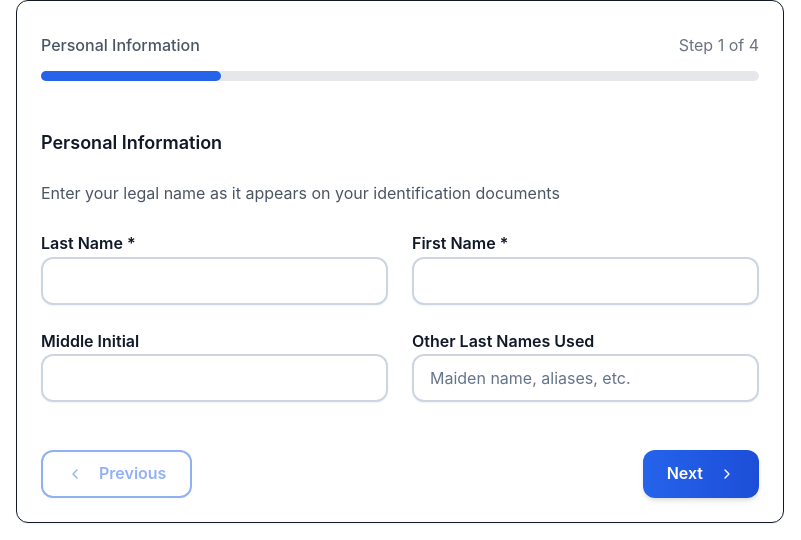
Test: I9Section1FormClean › Step 1: Personal Information › should limit middle initial to 1 character
Type "ABC" into the field labelled "Middle Initial".
click(214, 378); type("ABC")  # box [41,354,388,402]
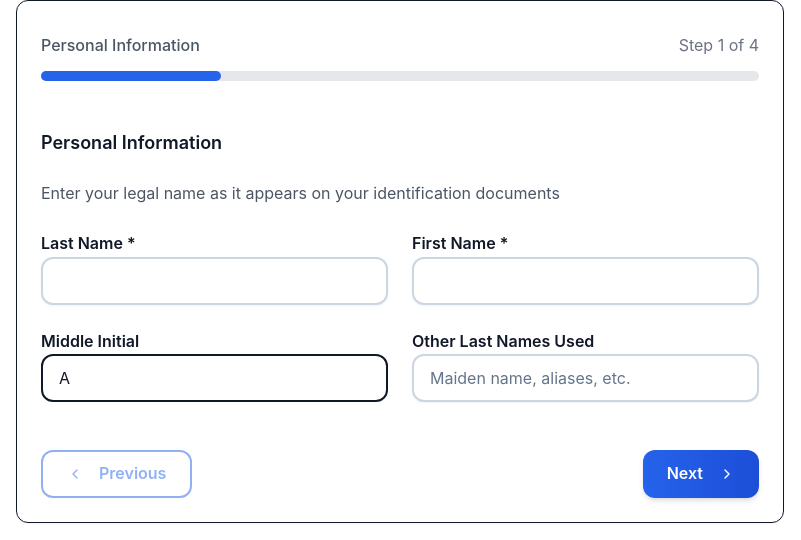
Now the field labelled "Middle Initial" holds "A", box [41,354,388,402]
